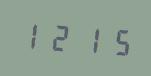five: (102, 21, 129, 59)
one: (74, 19, 101, 57), (18, 16, 45, 53)
two: (46, 18, 73, 55)
